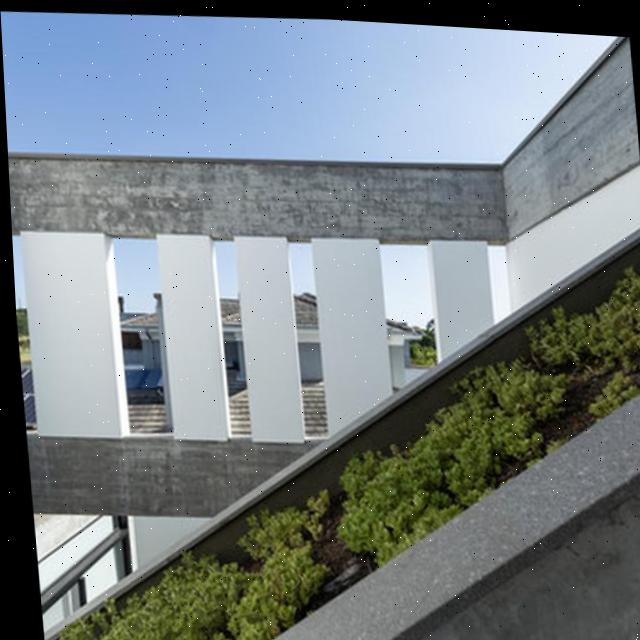building: (7, 126, 640, 640)
